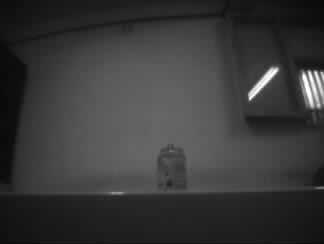Tin can: (156, 144, 188, 193)
